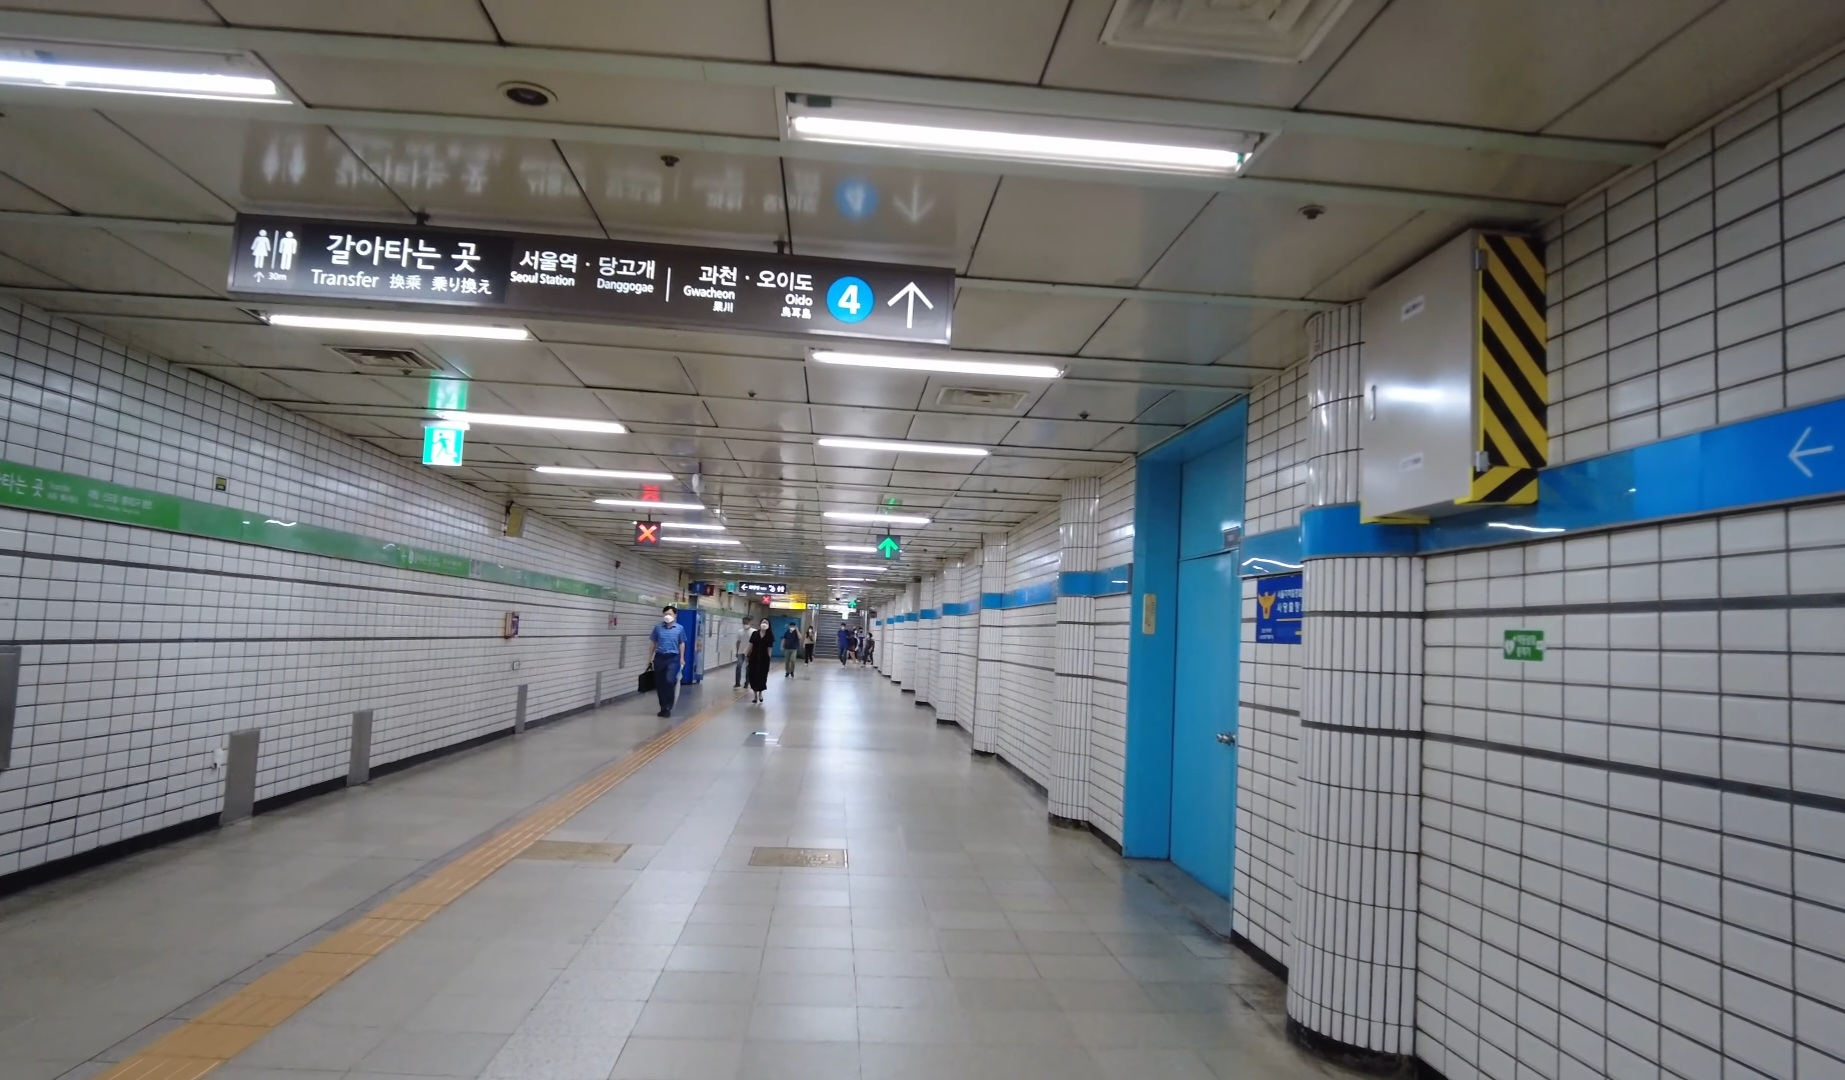signBoard: (213, 203, 963, 354)
